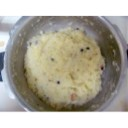venpongal: (26, 32, 103, 101)
